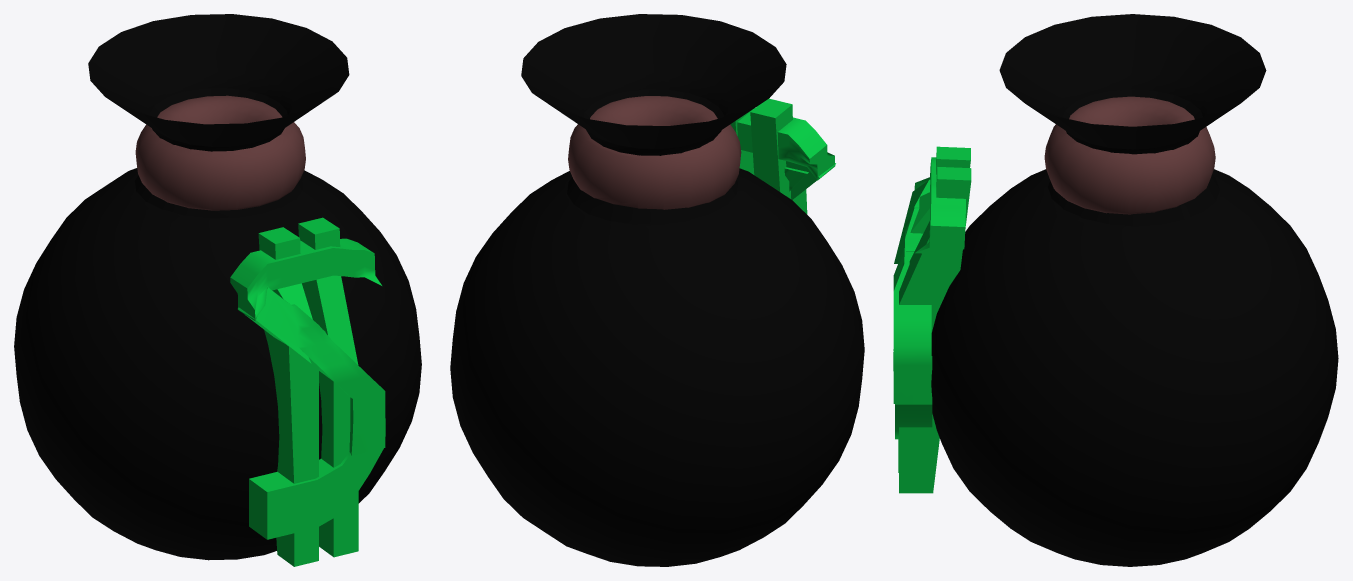
File: Moneybag.fbx
3 renders of one model, left to right at view 1: azimuth 30°, elevation 25°; view 2: azimuth 150°, elevation 25°; view 3: azimuth 270°, elevation 25°, orthographic.
Visible parts, largest first — view 1: pSphere3; view 2: pSphere3; view 3: pSphere3.
Part boxes in pixels (bbox=[...]): pSphere3: bbox=[14, 14, 421, 566]; pSphere3: bbox=[450, 14, 864, 566]; pSphere3: bbox=[893, 14, 1338, 566].
Size of the model in its own units: 5.46 by 6.91 by 5.83.
